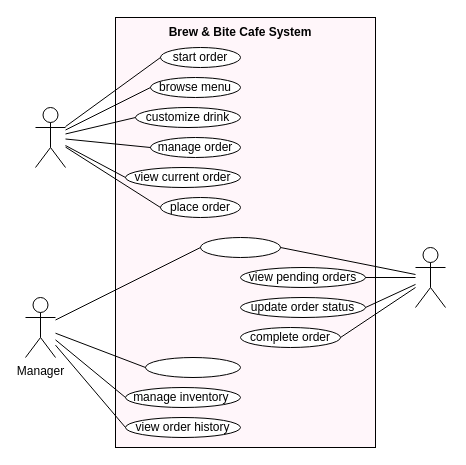
The diagram is 466 pixels wide and 465 high, and some of its shapes have lost their labels. Here are the shapes that lost their labels. From the top down, the centre of each, then its label:
At point (50, 137): "Customer".
At point (240, 247): "log in".
At point (430, 277): "Barista".
At point (192, 367): "manage menu".
